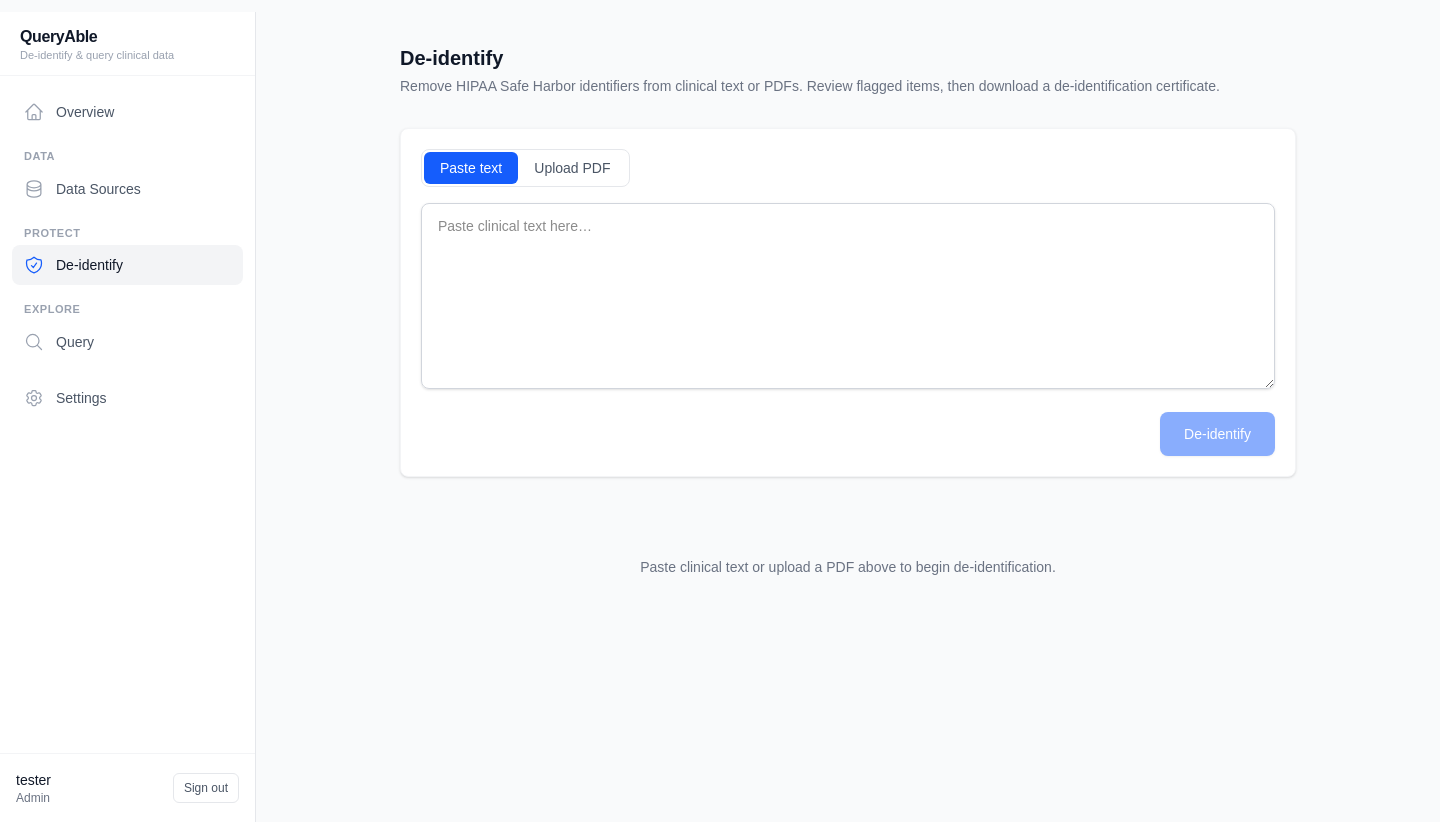
Test: DeidentifyPage › shows the review panel with approve/reject/edit controls when flagged items are present (Req 10.4)
The width and height of the screenshot is (1440, 822).
Type "Patient John seen on 01/15/2023." into the text box named "Text to de-identify".
click(848, 296); type("Patient John seen on 01/15/2023.")  # box [421, 203, 1275, 389]
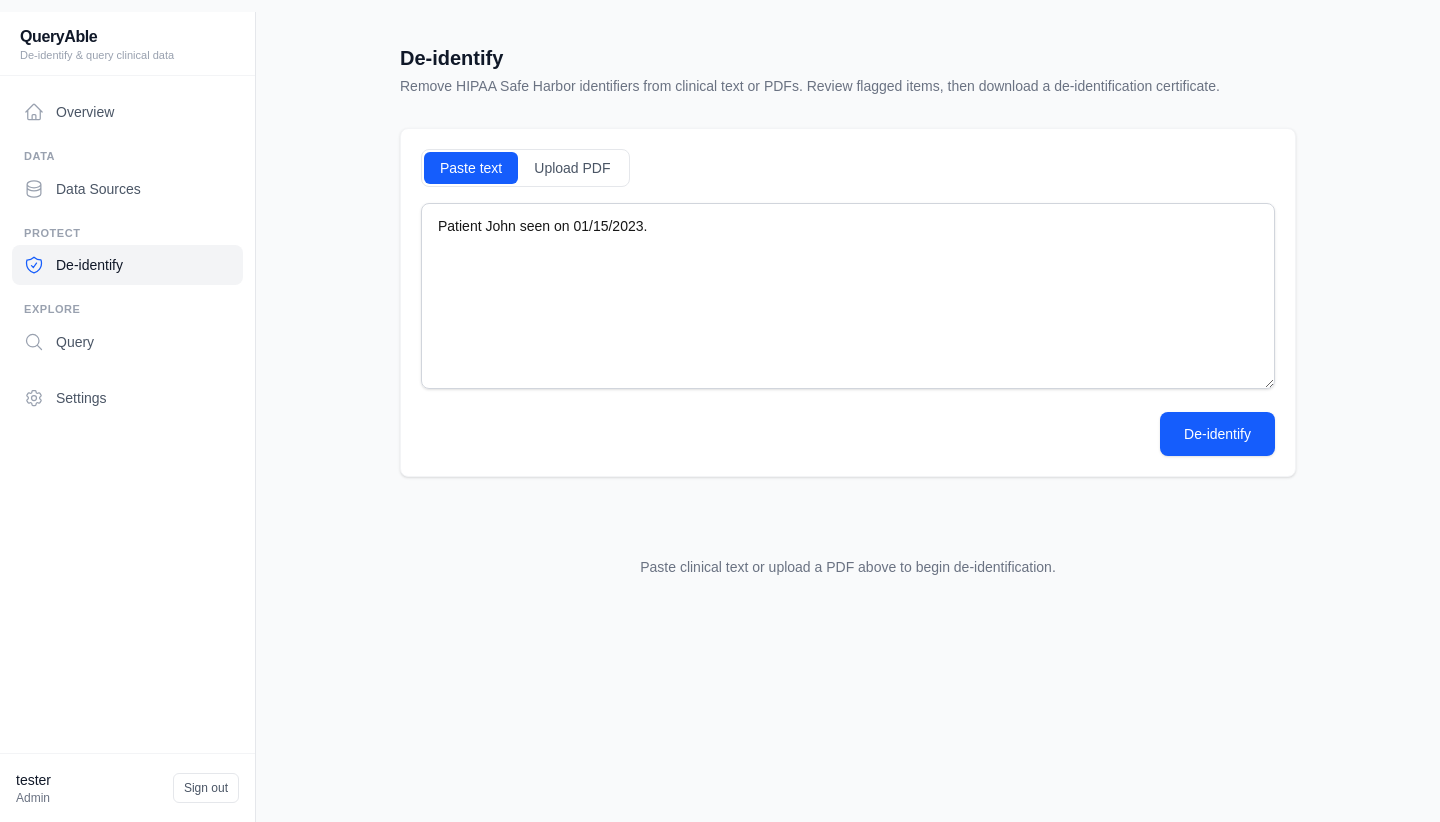
Click the button "De-identify".
click(1218, 434)  # box [1160, 412, 1275, 456]
(page scrolled)
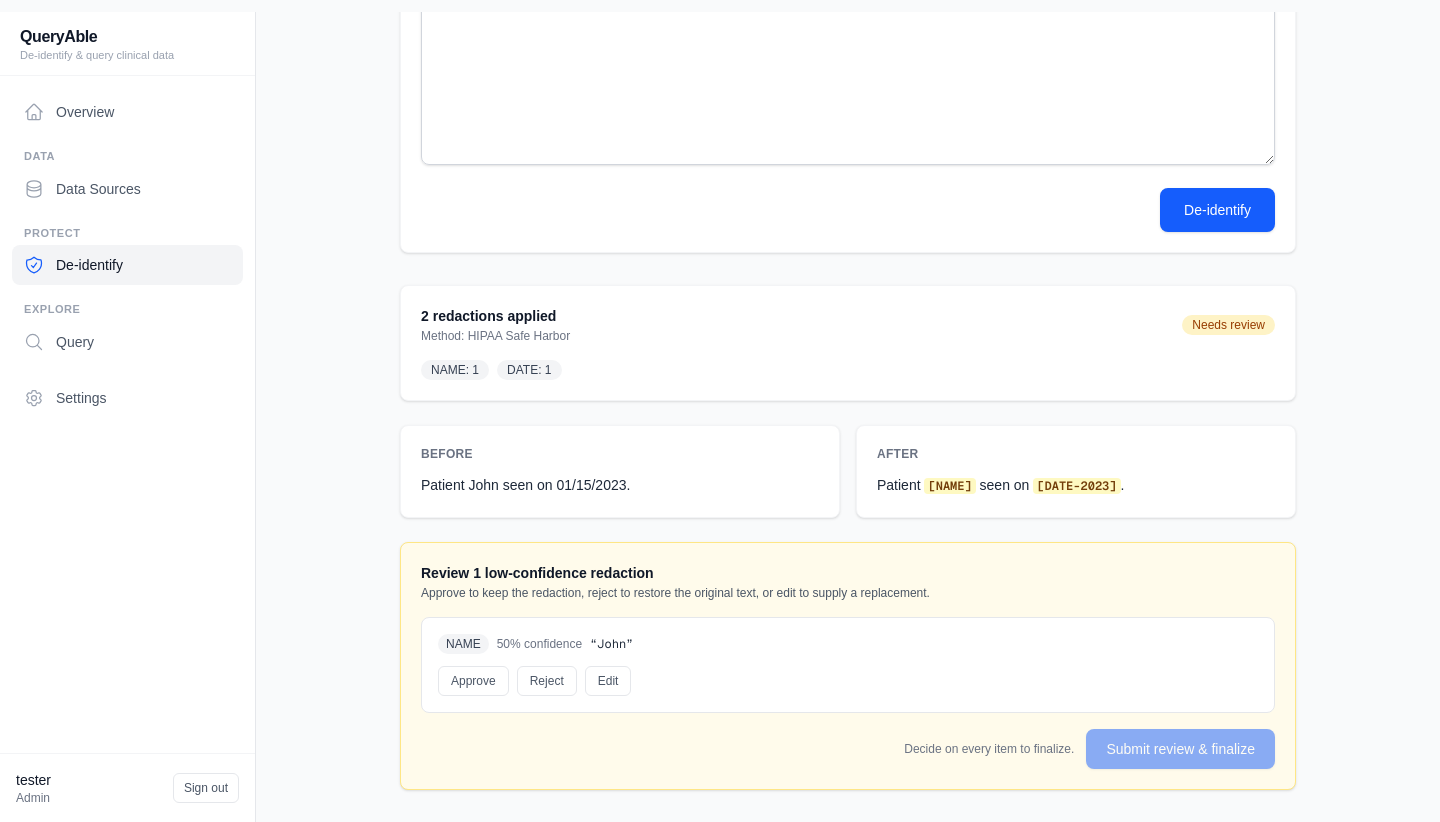
Result: the element with test id "review-panel" is shown at [400, 542, 1296, 790]
Result: the element with test id "flagged-item" is shown at [421, 617, 1275, 713]
Result: the button "approve" is shown at [438, 666, 509, 696]
